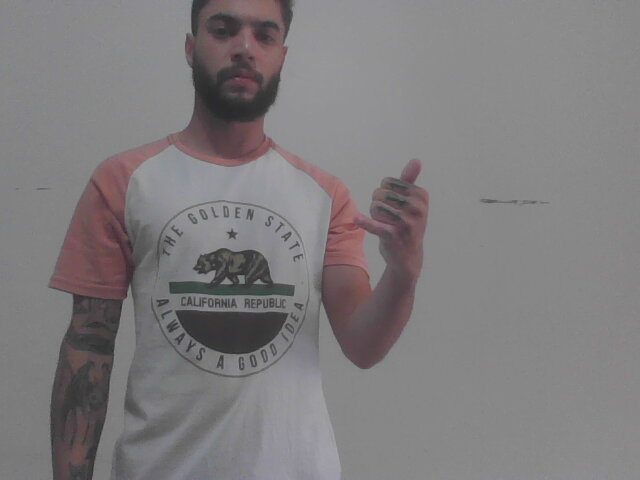j: (349, 152, 443, 278)
